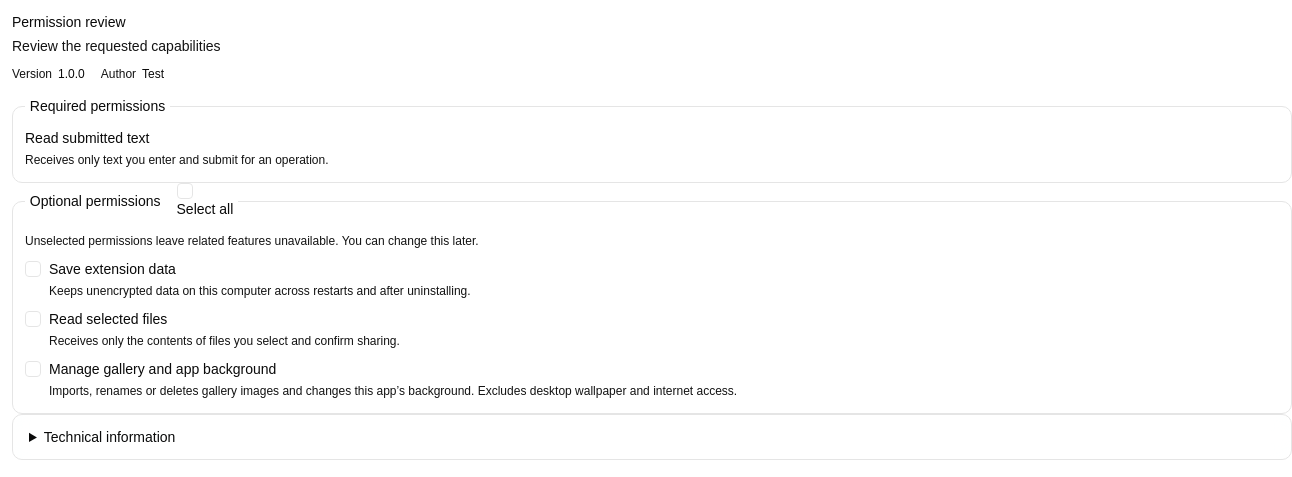
keeps optional grants explicit and supports selecting, partially selecting and clearing the whole group
The image size is (1292, 477).
Check: the checkbox next to "Optional permissions" is not checked, box [176, 183, 192, 199]
Check: the checkbox next to "Save extension data" is not checked, box [25, 261, 41, 277]
Step 1. Press Tab
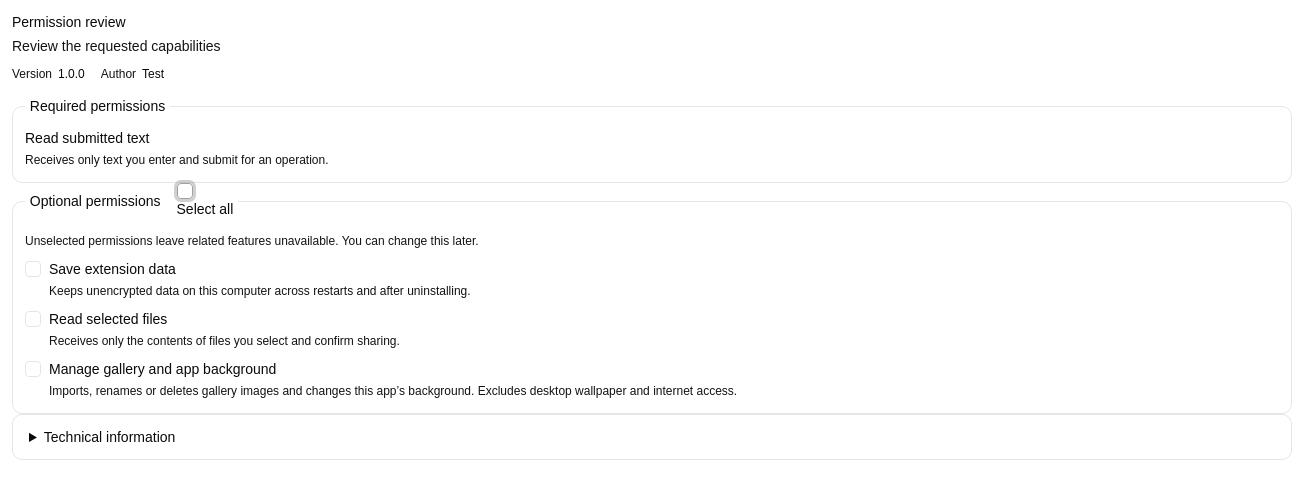
Step 2. Type keys " "
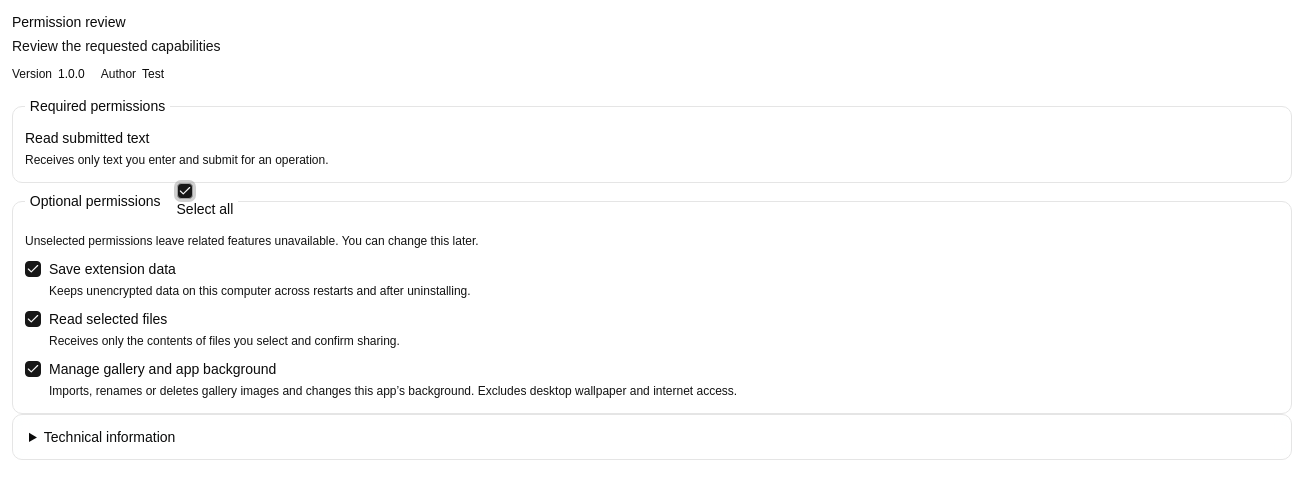
Check: the checkbox next to "Optional permissions" is checked, box [176, 183, 192, 199]
Check: the checkbox next to "Save extension data" is checked
Check: the checkbox next to "Read selected files" is checked, box [25, 311, 41, 327]
Step 3. Click the checkbox next to "Save extension data" → [33, 269], box [25, 261, 41, 277]
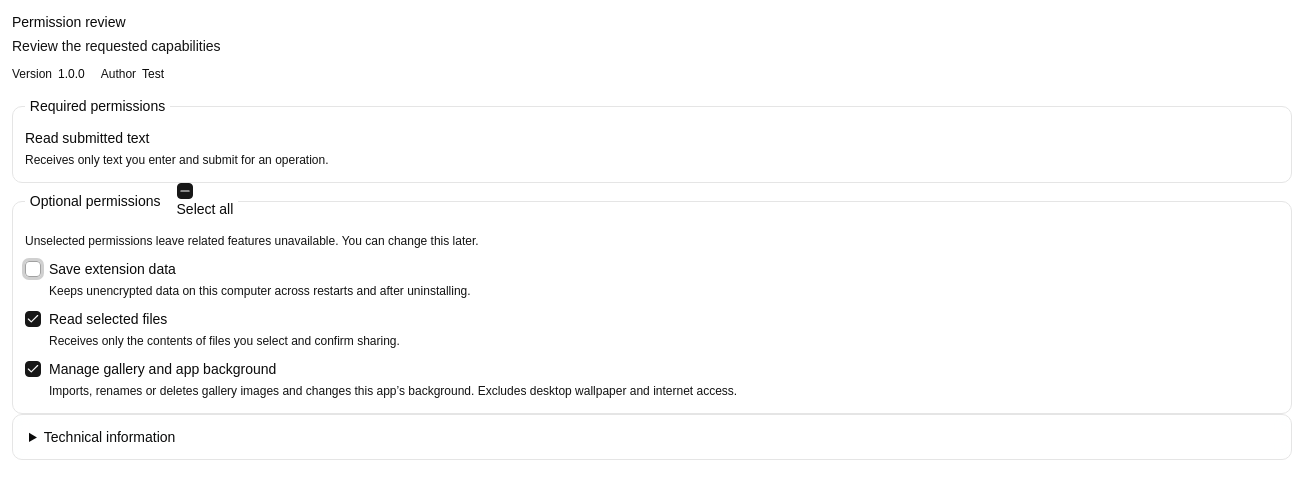
Step 4. Click the checkbox next to "Optional permissions" → [184, 191], box [176, 183, 192, 199]
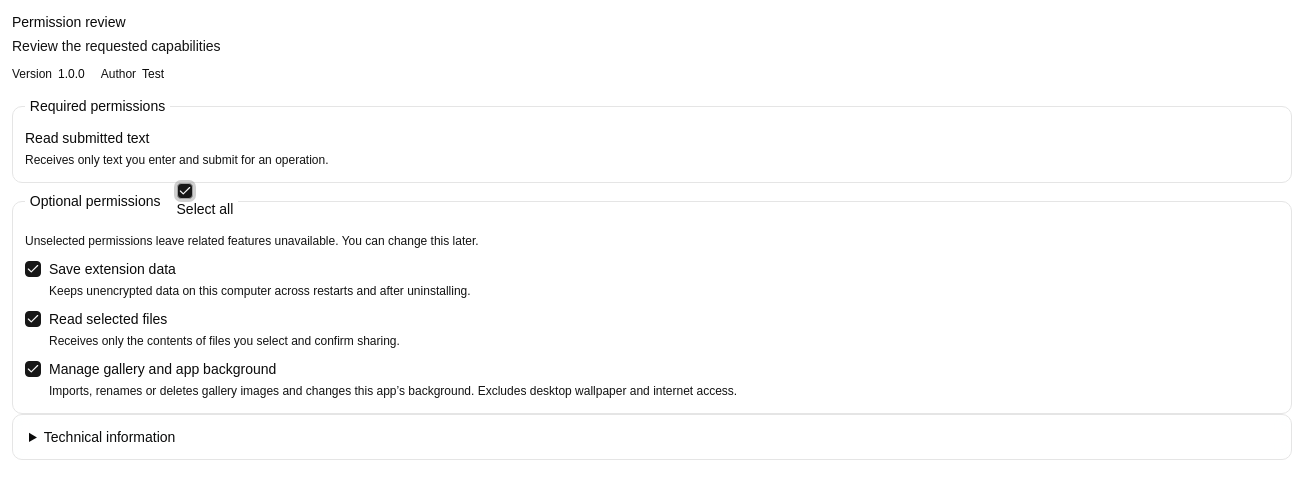
Check: the checkbox next to "Optional permissions" is checked
Check: the checkbox next to "Save extension data" is checked, box [25, 261, 41, 277]
Step 5. Click the checkbox next to "Optional permissions" → [184, 191], box [176, 183, 192, 199]
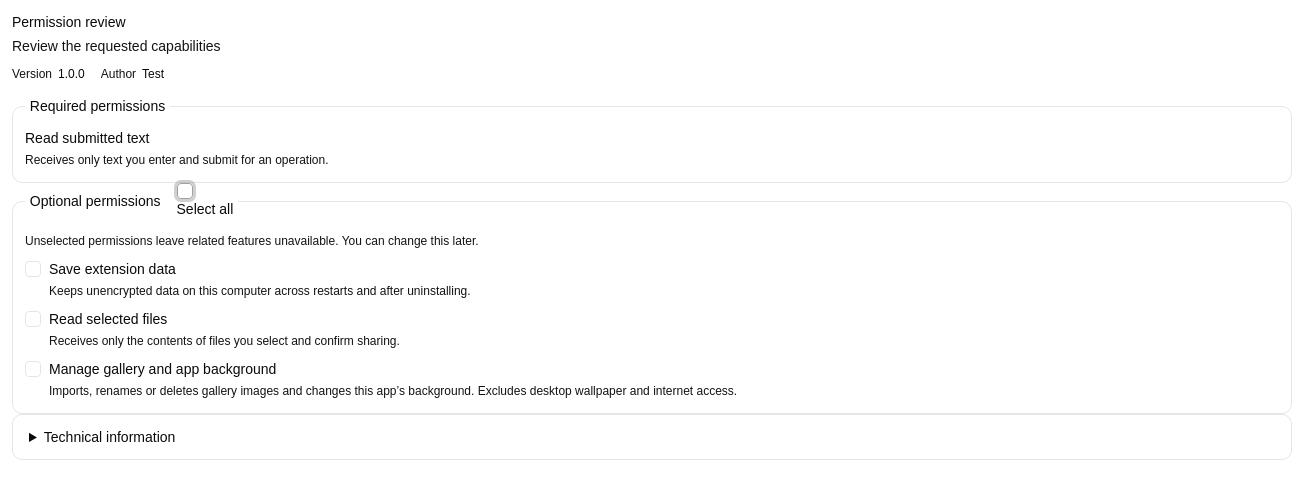
Check: the checkbox next to "Optional permissions" is not checked, box [176, 183, 192, 199]
Check: the checkbox next to "Save extension data" is not checked, box [25, 261, 41, 277]
Check: the checkbox next to "Read selected files" is not checked, box [25, 311, 41, 327]
